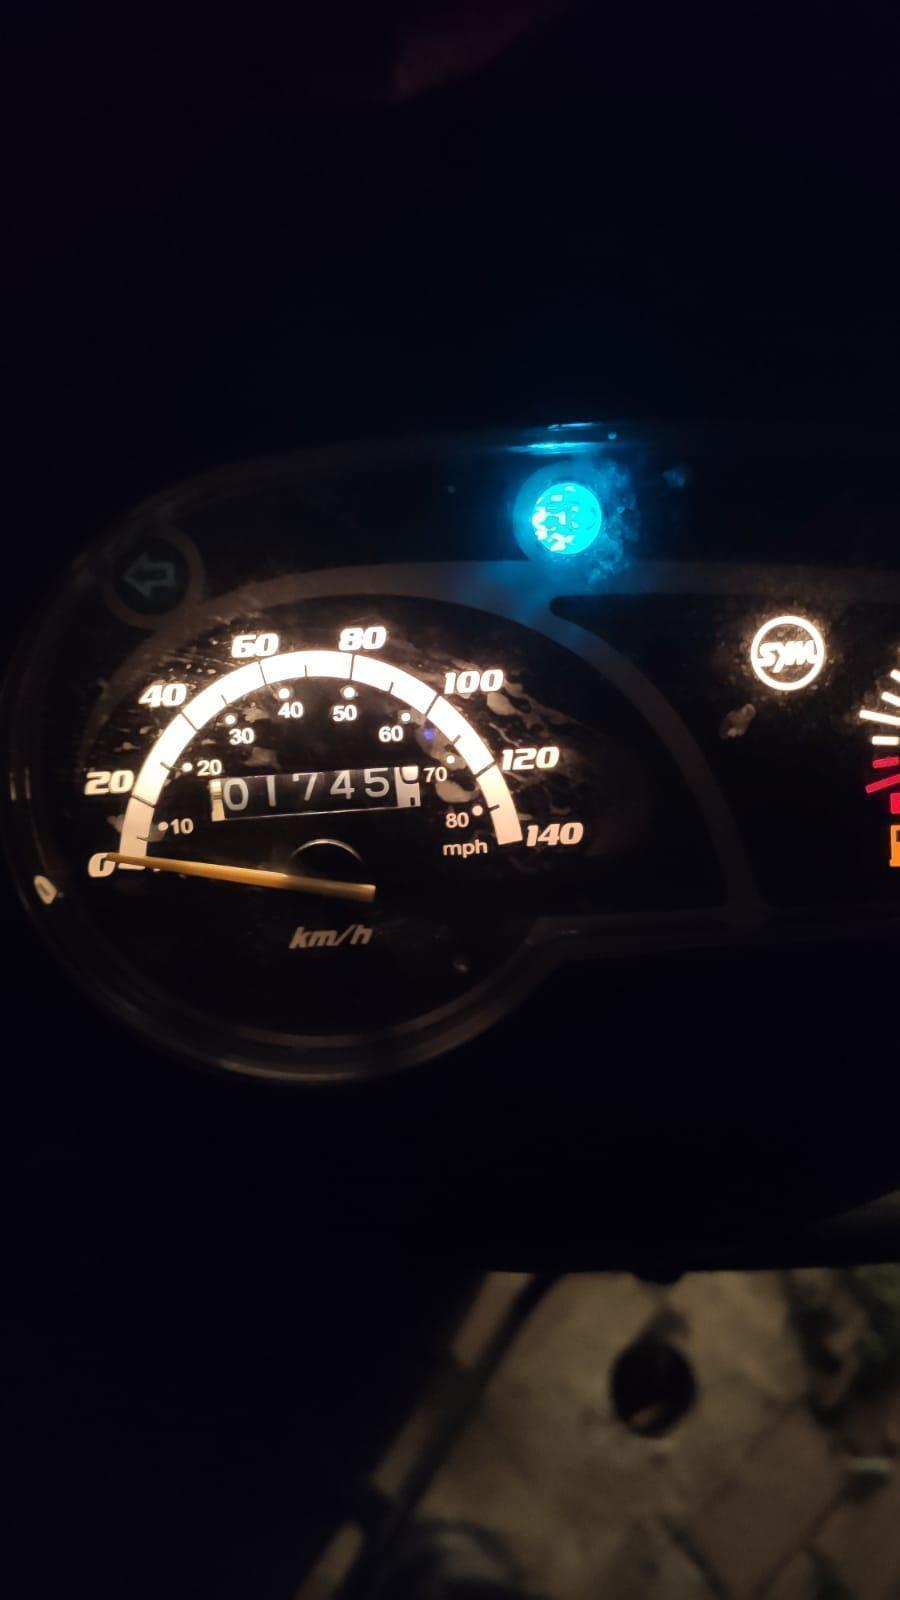0: (221, 776, 251, 812), (398, 765, 419, 785), (209, 760, 223, 775)
1: (260, 774, 281, 810)
2: (204, 760, 209, 776)
4: (327, 768, 356, 801)
5: (362, 767, 390, 799)
7: (290, 773, 316, 803)
odometer: (204, 760, 424, 824)
